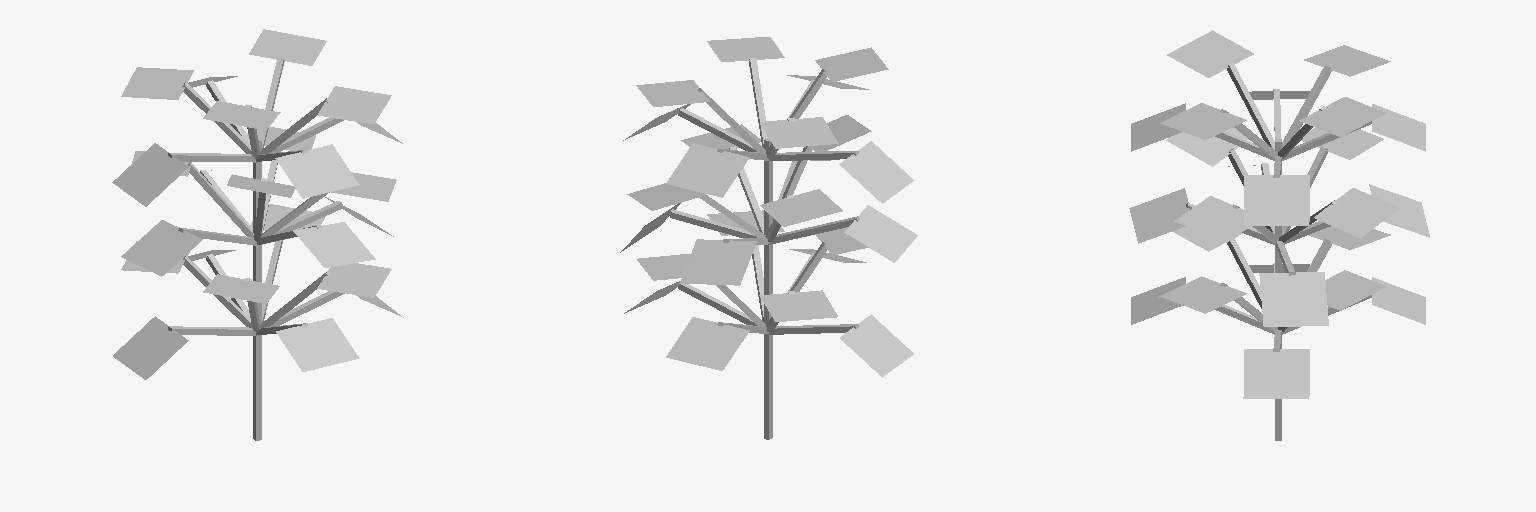
File: mamona.obj
3 views of the same model, side by side, from view 1: azimuth 30°, elevation 25°; view 2: azimuth 150°, elevation 25°; view 3: azimuth 270°, elevation 25° (orthographic).
Parts seen in each view (by area): view 1: folha, galho, caule1, caule2; view 2: folha, galho, caule1, caule2; view 3: folha, galho.
Part boxes in pixels (left/top/right/bottom): folha: left=112, top=29, right=403, bottom=379; galho: left=168, top=58, right=344, bottom=335; caule1: left=253, top=302, right=261, bottom=440; caule2: left=253, top=138, right=261, bottom=281; folha: left=620, top=37, right=917, bottom=377; galho: left=670, top=58, right=859, bottom=334; caule1: left=764, top=282, right=772, bottom=439; caule2: left=764, top=138, right=772, bottom=284; folha: left=1129, top=30, right=1429, bottom=398; galho: left=1186, top=63, right=1371, bottom=351.
Size of the model in its own units: 2.86 by 3.83 by 2.85.